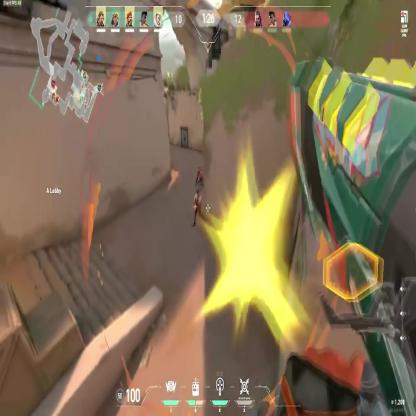enemy: (192, 187, 204, 224), (196, 168, 205, 202)
enemy_head: (196, 191, 200, 198), (198, 168, 200, 173)
